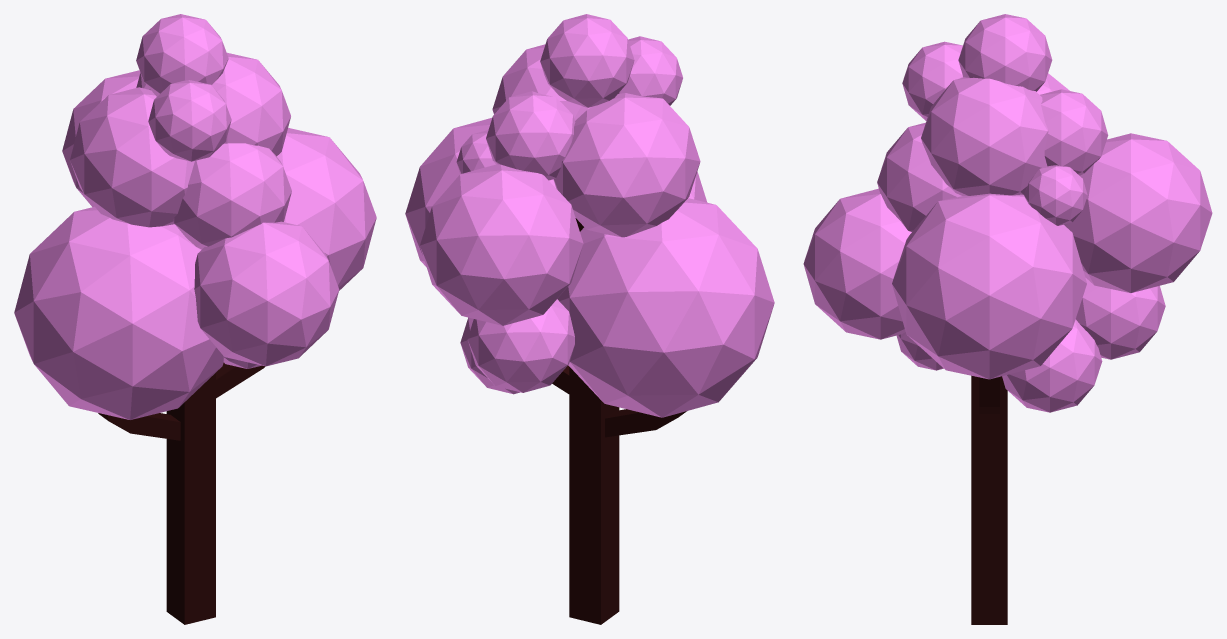
The model's file is OBJ_Tree01.FBX.
3 renders of one model, left to right at view 1: azimuth 30°, elevation 25°; view 2: azimuth 150°, elevation 25°; view 3: azimuth 270°, elevation 25°, orthographic.
Parts seen in each view (by area): view 1: GeoSphere003, Box002; view 2: GeoSphere003, Box002; view 3: GeoSphere003, Box002.
Part boxes in pixels (x1=…): GeoSphere003: x1=14, y1=14, x2=376, y2=419; Box002: x1=98, y1=362, x2=265, y2=624; GeoSphere003: x1=405, y1=14, x2=774, y2=417; Box002: x1=552, y1=218, x2=686, y2=624; GeoSphere003: x1=803, y1=14, x2=1212, y2=412; Box002: x1=971, y1=375, x2=1007, y2=624.
Bounding box in the file's own units: 10.47 × 18.14 × 11.22.
